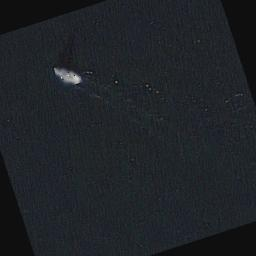boat: (54, 61, 82, 89)
